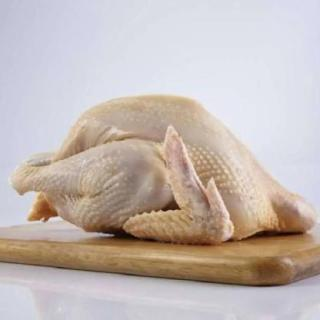Ayam: (15, 97, 314, 244)
